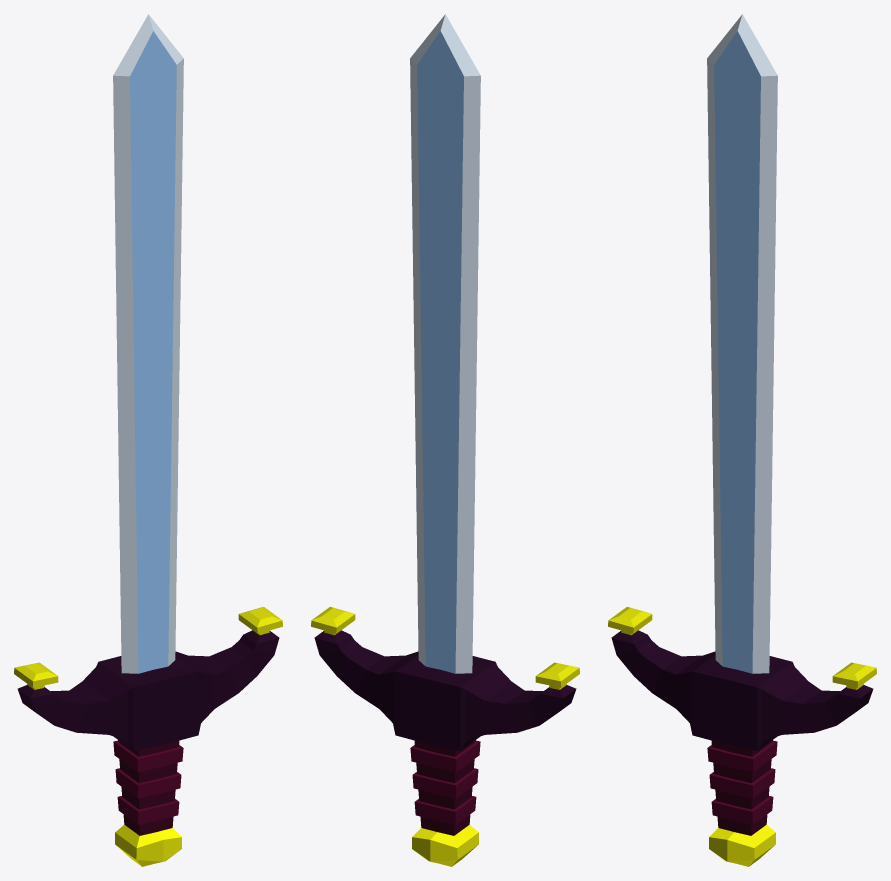
File: sword.fbx
3 renders of one model, left to right at view 1: azimuth 30°, elevation 25°; view 2: azimuth 150°, elevation 25°; view 3: azimuth 330°, elevation 25°, orthographic.
Parts seen in each view (by area): view 1: Cube; view 2: Cube; view 3: Cube.
Part boxes in pixels (x1,y1,x2,y2): Cube: (14, 14, 282, 866); Cube: (311, 14, 579, 866); Cube: (608, 14, 876, 866).
Size of the model in its own units: 821 by 2655 by 200.
